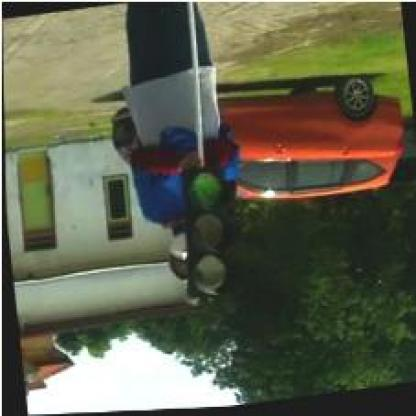green: (177, 166, 245, 298)
